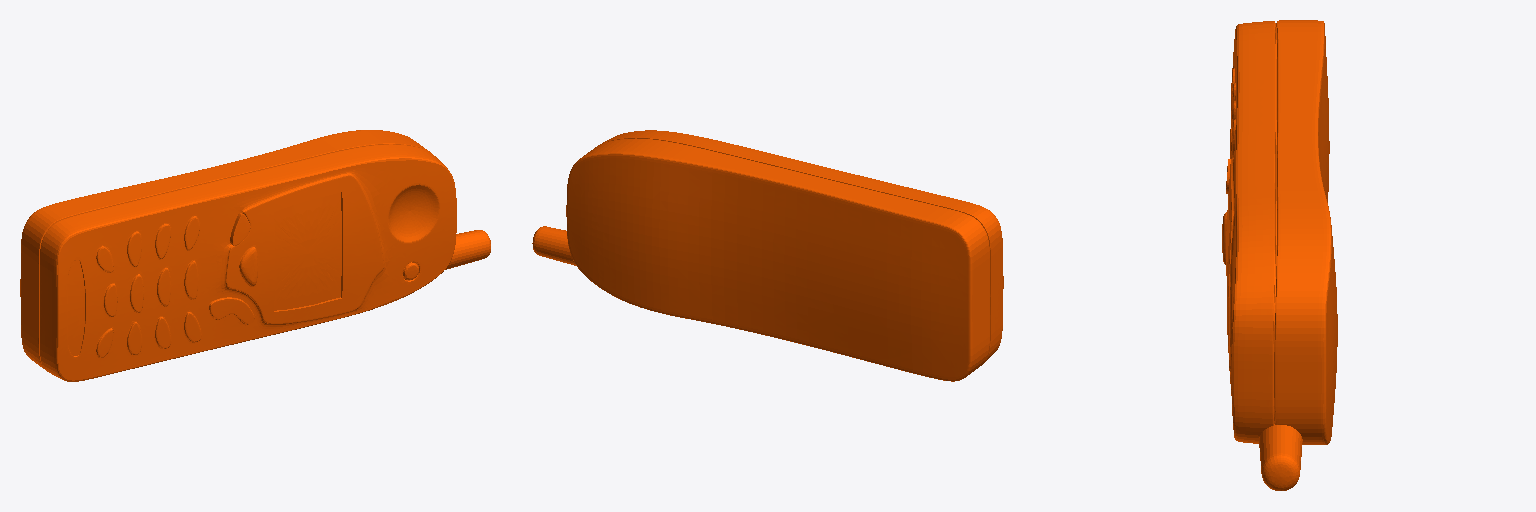
robot.urdf — phone:
<?xml version="1.0" ?>
<robot name="phone">
   <material name="obj_color">
      <color rgba="1.0 0.423529411765 0.0392156862745 1.0"/>
   </material>
   <link name="top">
      <inertial>
         <origin rpy="5.395737208426865e-05 0.0003648433084805522 0.0004023193122158722" xyz="-0.00758929367273985 5.878174011785675e-05 -0.0001422679995148962"/>
         <mass value="0.2472383030706513"/>
         <inertia ixx="5.399299821650041e-05" ixy="-1.817928863963304e-06" ixz="2.850641839656644e-06" iyy="0.0004023097919993724" iyz="-1.995515962570206e-08" izz="0.0003648172025648204"/>
      </inertial>
      <visual>
         <origin rpy="0 0 0" xyz="0 0 0"/>
         <geometry>
            <mesh filename="top_watertight_tiny.stl" scale="1 1 1"/>
         </geometry>
         <material name="obj_color"/>
      </visual>
      <collision>
         <origin rpy="0 0 0" xyz="0 0 0"/>
         <geometry>
            <mesh filename="top_watertight_tiny.obj" scale="1 1 1"/>
         </geometry>
      </collision>
   </link>
   <link name="bottom">
      <inertial>
         <origin rpy="1.633333333194242e-08 1.633333333194243e-08 1.633333333357667e-08" xyz="0.3464080000000008 0.3464080000000008 0.3464080000000008"/>
         <mass value="0.0009800000000000017"/>
         <inertia ixx="1.633333333248717e-08" ixy="5.447480642029219e-19" ixz="5.447480642029219e-19" iyy="1.633333333248717e-08" iyz="5.447480642029219e-19" izz="1.633333333248717e-08"/>
      </inertial>
      <visual>
         <origin rpy="0 0 0" xyz="0 0 0"/>
         <geometry>
            <mesh filename="bottom_watertight_tiny.stl" scale="1 1 1"/>
         </geometry>
         <material name="obj_color"/>
      </visual>
   </link>
   <link name="world"/>
   <joint name="world_to_base" type="fixed">
      <origin xyz="0 0 0"/>
      <axis xyz="0 0 0"/>
      <parent link="world"/>
      <child link="bottom"/>
   </joint>
   <joint name="rotation" type="revolute">
      <origin xyz="0 0 0"/>
      <axis xyz="0 0 -1"/>
      <parent link="bottom"/>
      <child link="top"/>
      <dynamics damping="1.0" friction="1.0"/>
      <limit effort="0.1" velocity="0.1" lower="0" upper="0.001"/>
   </joint>
</robot>

--- What the picture shows (computed from the rendered views, not written in the file) ---
Views: 3 orthographic renders of the robot side by side, from view 1: azimuth 30°, elevation 25°; view 2: azimuth 150°, elevation 25°; view 3: azimuth 270°, elevation 25°.
Model phone with 3 links and 2 joints (1 revolute, 1 fixed), rooted at world, posed all joints at 0.
Links seen in each view (by area): view 1: top; view 2: top; view 3: top.
Boxes of the visible links, left/top/right/bottom form: top: left=20, top=130, right=490, bottom=381; top: left=532, top=130, right=1003, bottom=381; top: left=1222, top=20, right=1337, bottom=490.
Size in the robot's own frame: 0.1485 by 0.0245 by 0.0495 metres.
Meshes: 2 distinct files referenced, 1 mesh visuals loaded (1 binary STL); not drawn: 1 (reference not matched to a file when rendering).
